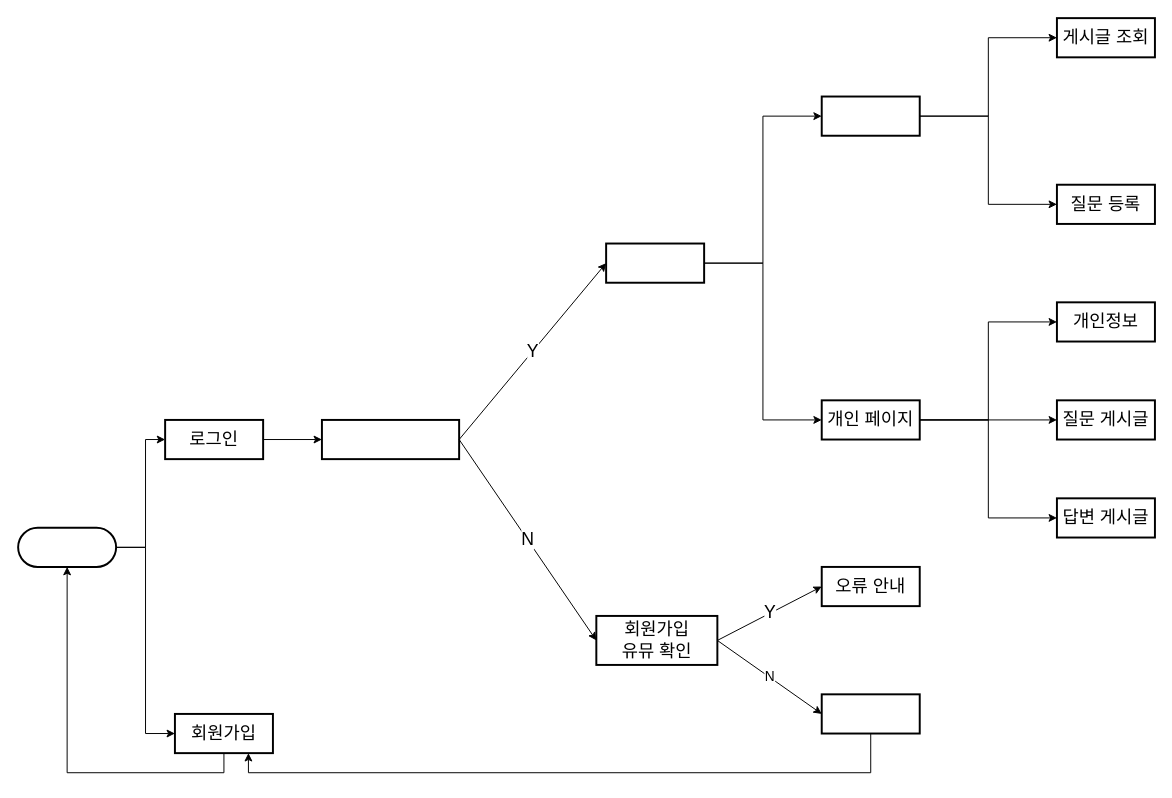
Image size: 1172x798. Some labels were removed from this diagram. Here are the shapes that lost their labels. From the top down, the box of each, then its label:
(820, 95, 920, 136): Q&A
(605, 242, 705, 283): 메인 페이지
(320, 418, 460, 460): 로그인에 성공?
(17, 526, 117, 567): 시작
(820, 693, 920, 734): 회원가입 페이지
